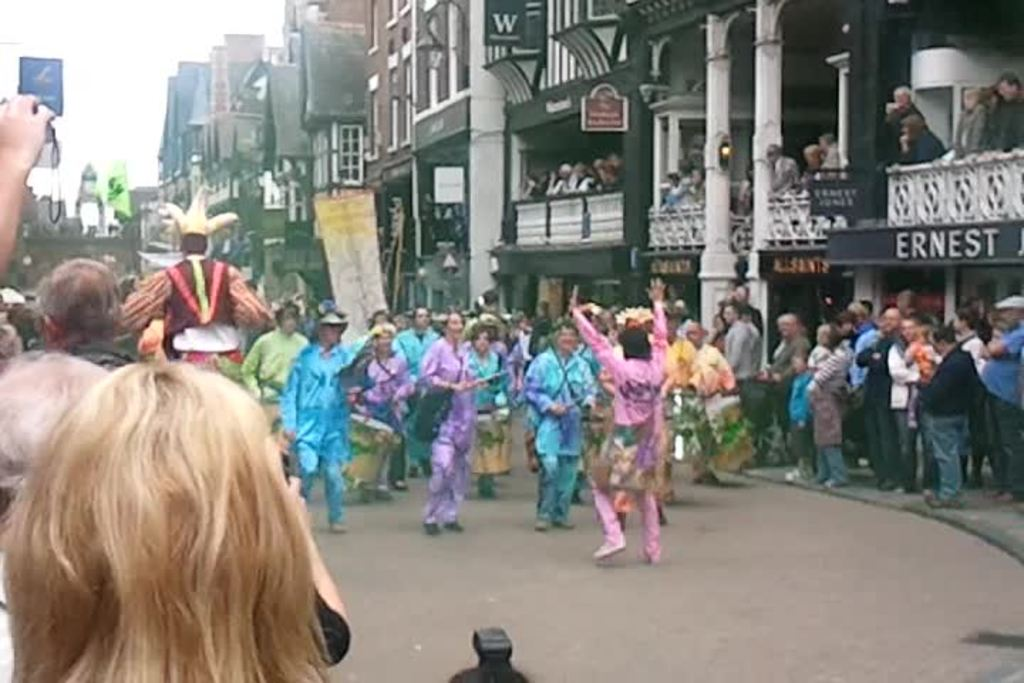Person: (0, 188, 1024, 566), (513, 63, 1021, 217)
